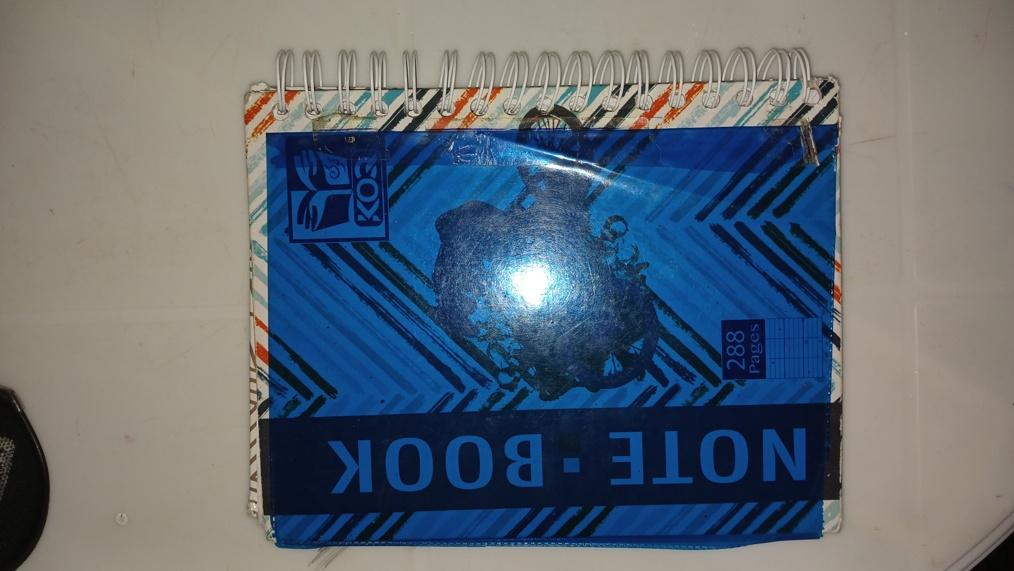notebook: (242, 46, 842, 550)
